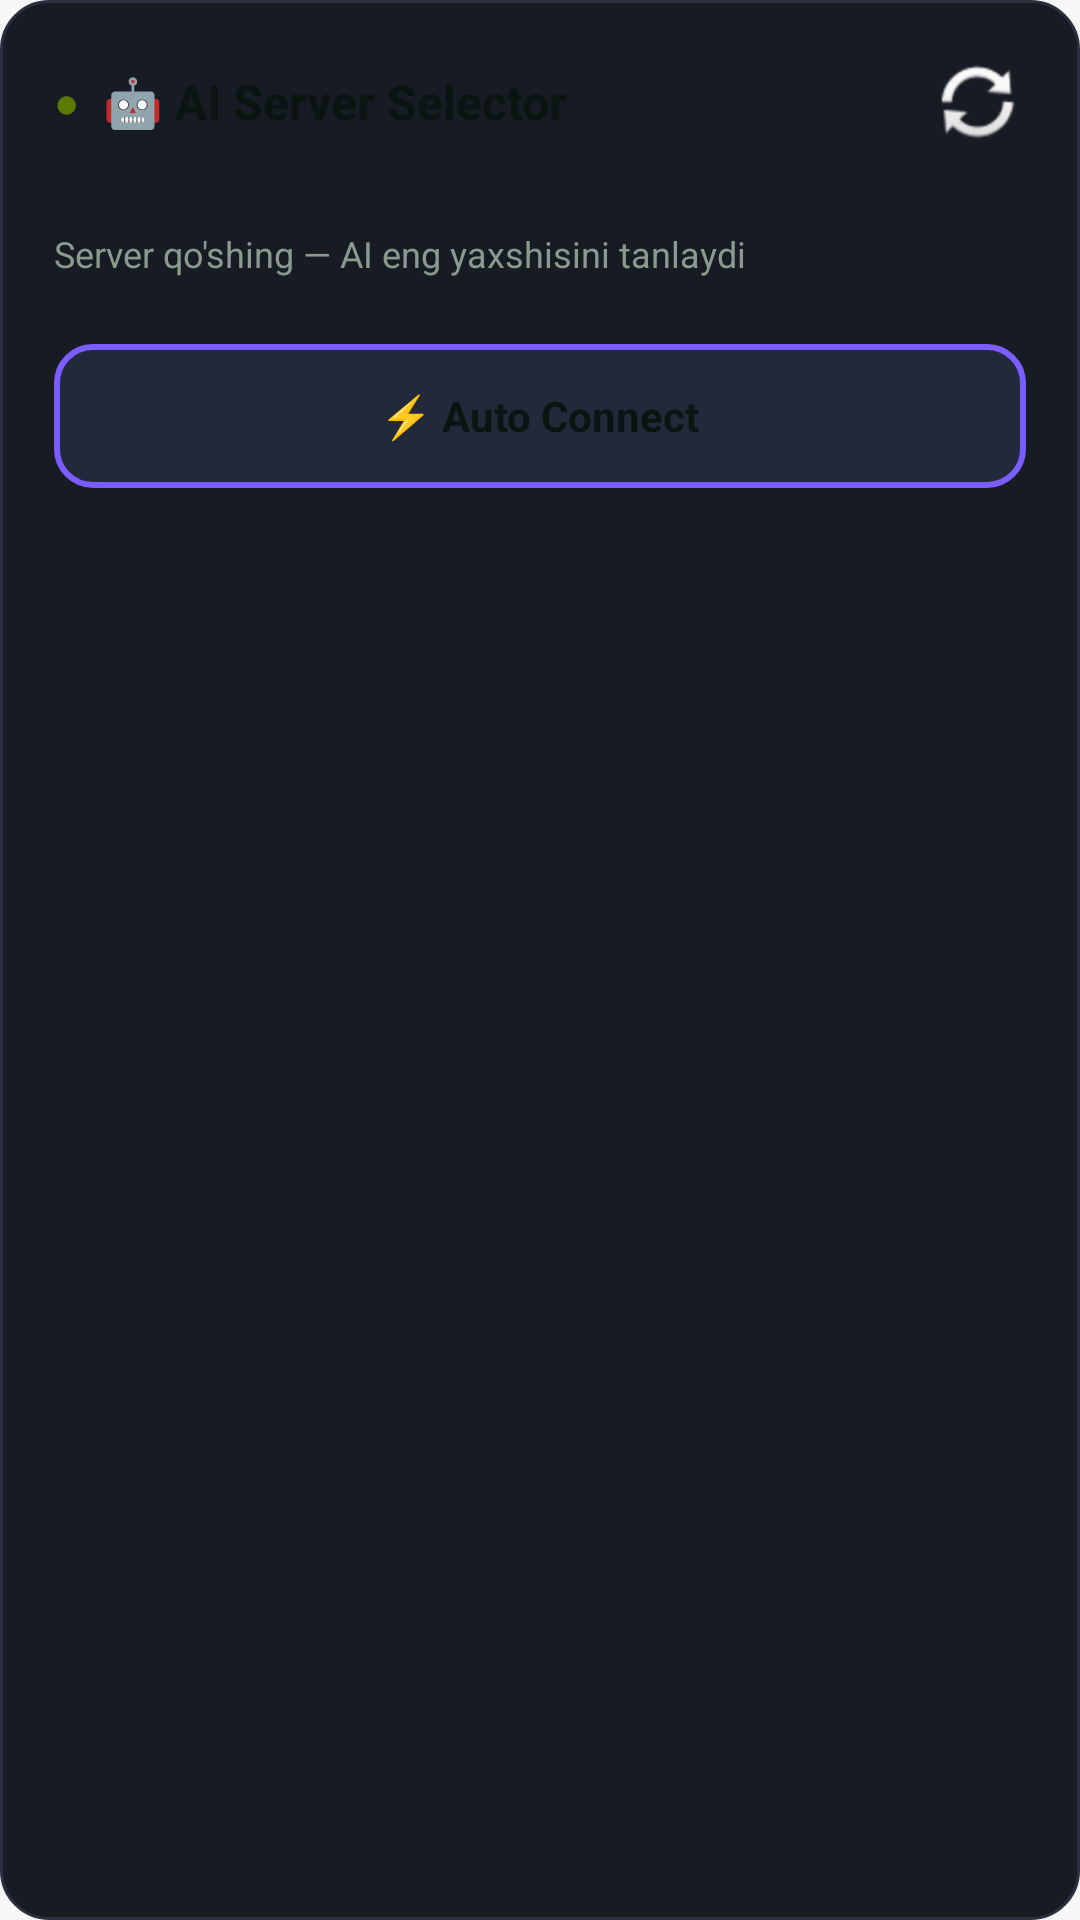

Locate icon controls on the screen. Image size 1080w x 1920h, boxes as (x1, y1, x2, y2).
Yangilash: (941, 66, 1014, 138)
